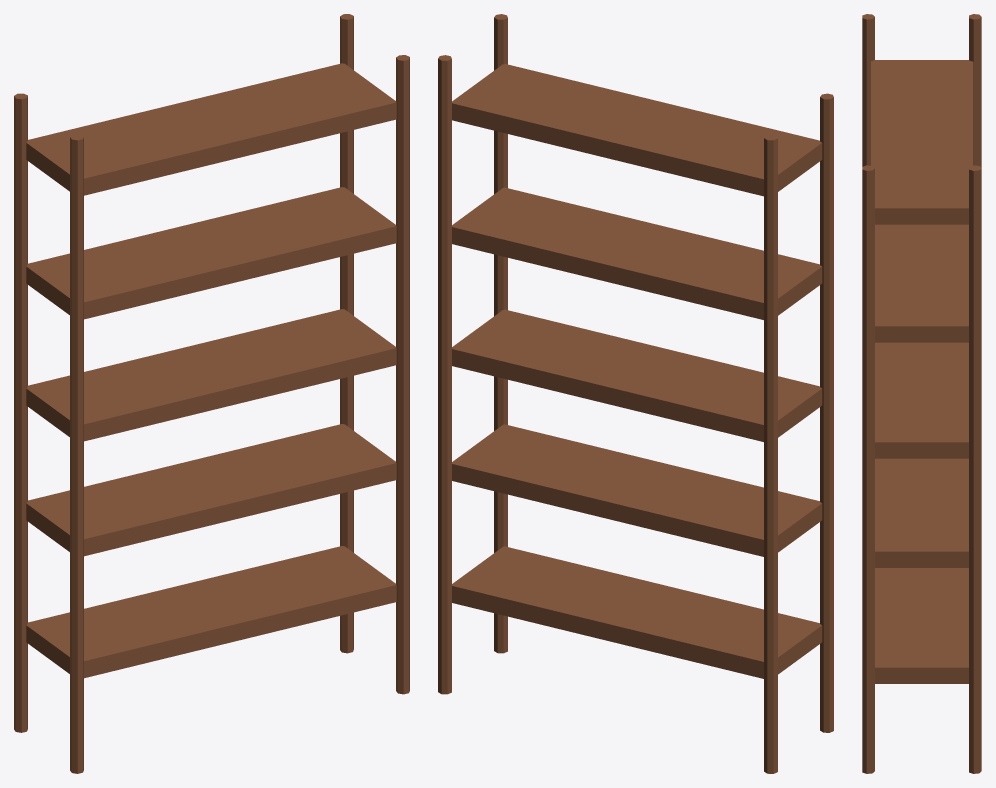
Rendered from shelf.glb.
The picture shows the model from 3 angles, left to right: view 1: azimuth 30°, elevation 25°; view 2: azimuth 150°, elevation 25°; view 3: azimuth 270°, elevation 25°; orthographic projection. The views are drawn at different scales.
Visible parts, largest first — view 1: Cube.001; view 2: Cube.001; view 3: Cube.001.
Part boxes in pixels (x1,y1,x2,y2): Cube.001: (14,14,409,773); Cube.001: (438,14,833,773); Cube.001: (862,14,981,773).
Bounding box in the file's own units: 3.83 × 6.86 × 1.23.
1 material, 1 textured.
